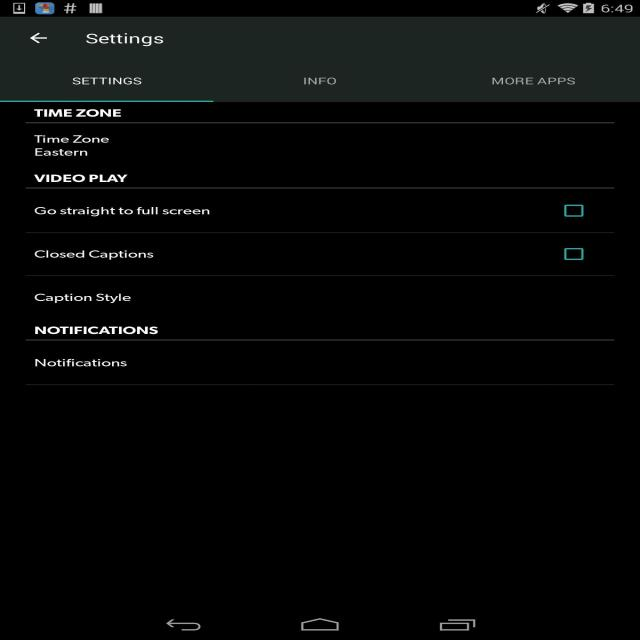button: (211, 68, 428, 102), (2, 69, 210, 102), (428, 69, 639, 101), (22, 26, 57, 49), (564, 247, 583, 260), (566, 203, 581, 218)
heading: (84, 30, 164, 49), (35, 326, 160, 338), (32, 105, 124, 120), (34, 172, 130, 186)
text: (35, 205, 212, 219), (31, 132, 114, 159), (34, 246, 158, 261), (34, 357, 128, 371)
